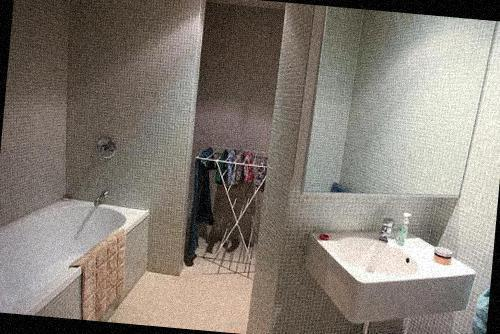Lavamanos: (305, 211, 480, 334)
